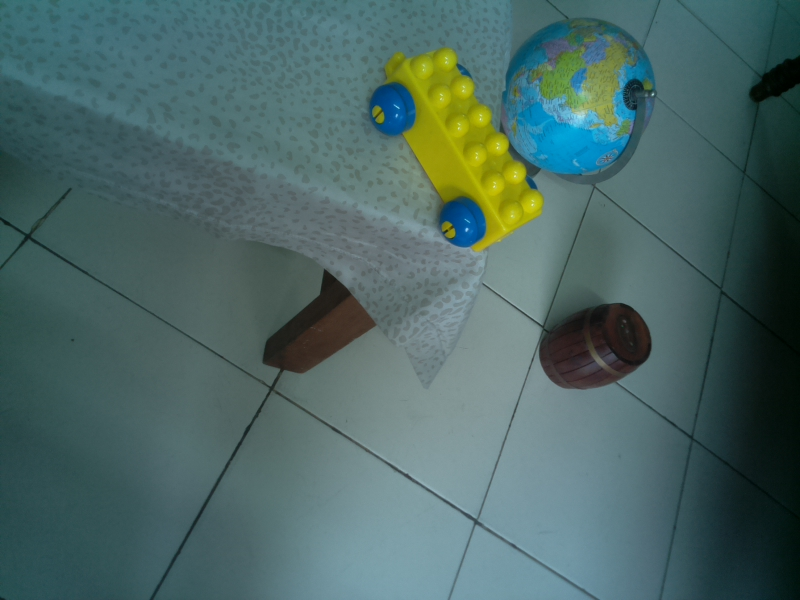toy_Car: (362, 42, 549, 255)
